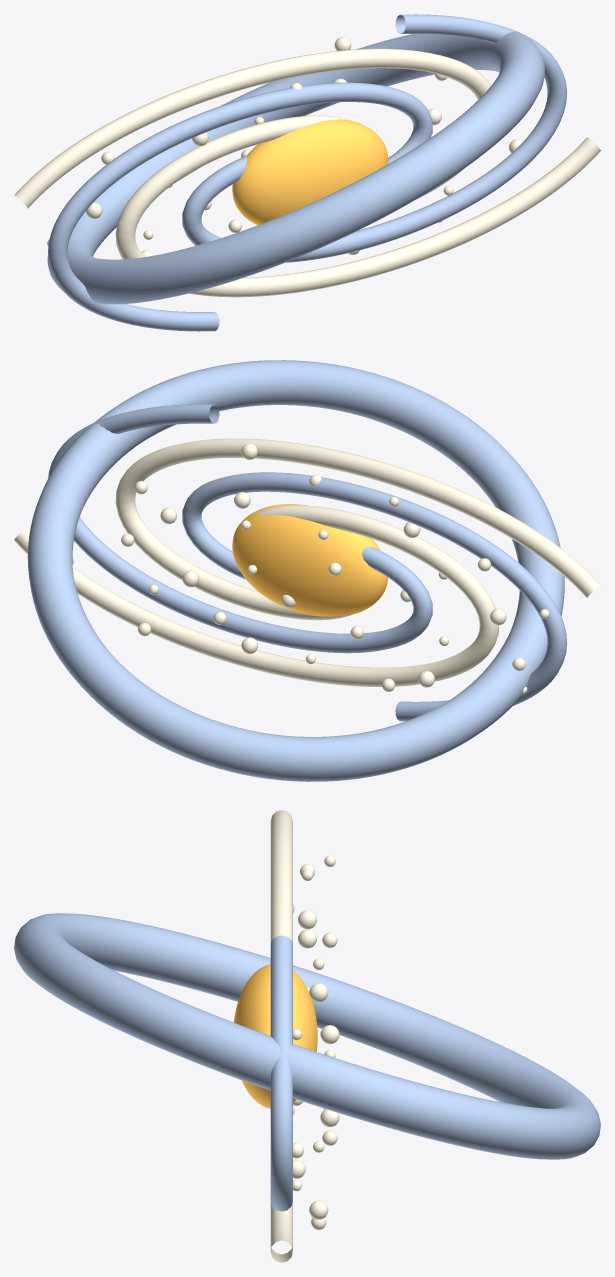
The model's file is space-p1-andromeda.glb.
3 views of the same model, one above another, from view 1: azimuth 30°, elevation 25°; view 2: azimuth 150°, elevation 25°; view 3: azimuth 270°, elevation 25° (orthographic). The views are drawn at different scales.
Parts seen in each view (by area): view 1: andromeda-tilted-stellar-disk-haze, andromeda-wide-spiral-arm-0, andromeda-wide-spiral-arm-3, andromeda-wide-spiral-arm-1, andromeda-wide-spiral-arm-2, andromeda-bright-central-bulge; view 2: andromeda-tilted-stellar-disk-haze, andromeda-wide-spiral-arm-2, andromeda-wide-spiral-arm-0, andromeda-wide-spiral-arm-1, andromeda-wide-spiral-arm-3, andromeda-bright-central-bulge; view 3: andromeda-tilted-stellar-disk-haze, andromeda-wide-spiral-arm-1, andromeda-bright-central-bulge, andromeda-wide-spiral-arm-2, andromeda-wide-spiral-arm-0.
Boxes of the visible parts, left/top/right/bottom form: andromeda-tilted-stellar-disk-haze: left=47, top=31, right=544, bottom=304; andromeda-wide-spiral-arm-0: left=115, top=115, right=600, bottom=297; andromeda-wide-spiral-arm-3: left=48, top=82, right=432, bottom=331; andromeda-wide-spiral-arm-1: left=182, top=14, right=566, bottom=262; andromeda-wide-spiral-arm-2: left=14, top=48, right=491, bottom=208; andromeda-bright-central-bulge: left=232, top=119, right=388, bottom=225; andromeda-tilted-stellar-disk-haze: left=27, top=360, right=564, bottom=781; andromeda-wide-spiral-arm-2: left=115, top=438, right=600, bottom=620; andromeda-wide-spiral-arm-0: left=14, top=505, right=499, bottom=686; andromeda-wide-spiral-arm-1: left=48, top=404, right=432, bottom=653; andromeda-wide-spiral-arm-3: left=182, top=472, right=567, bottom=721; andromeda-bright-central-bulge: left=232, top=504, right=387, bottom=616; andromeda-tilted-stellar-disk-haze: left=14, top=913, right=600, bottom=1159; andromeda-wide-spiral-arm-1: left=270, top=935, right=292, bottom=1211; andromeda-bright-central-bulge: left=234, top=964, right=317, bottom=1108; andromeda-wide-spiral-arm-2: left=270, top=810, right=292, bottom=943; andromeda-wide-spiral-arm-0: left=270, top=1201, right=292, bottom=1262.
Size of what is drawn, in the model's own units: 2.4 by 1.06 by 1.83.
